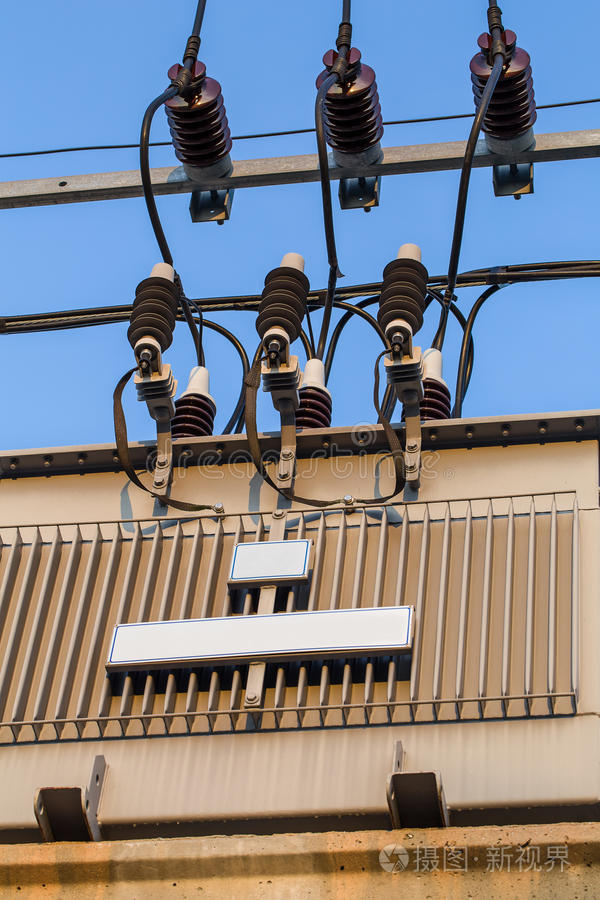insulator: (158, 75, 234, 163), (313, 67, 386, 154), (469, 49, 537, 137), (252, 266, 311, 341), (372, 258, 431, 333), (126, 275, 180, 350), (404, 379, 454, 424), (165, 397, 213, 437), (289, 391, 334, 432)
